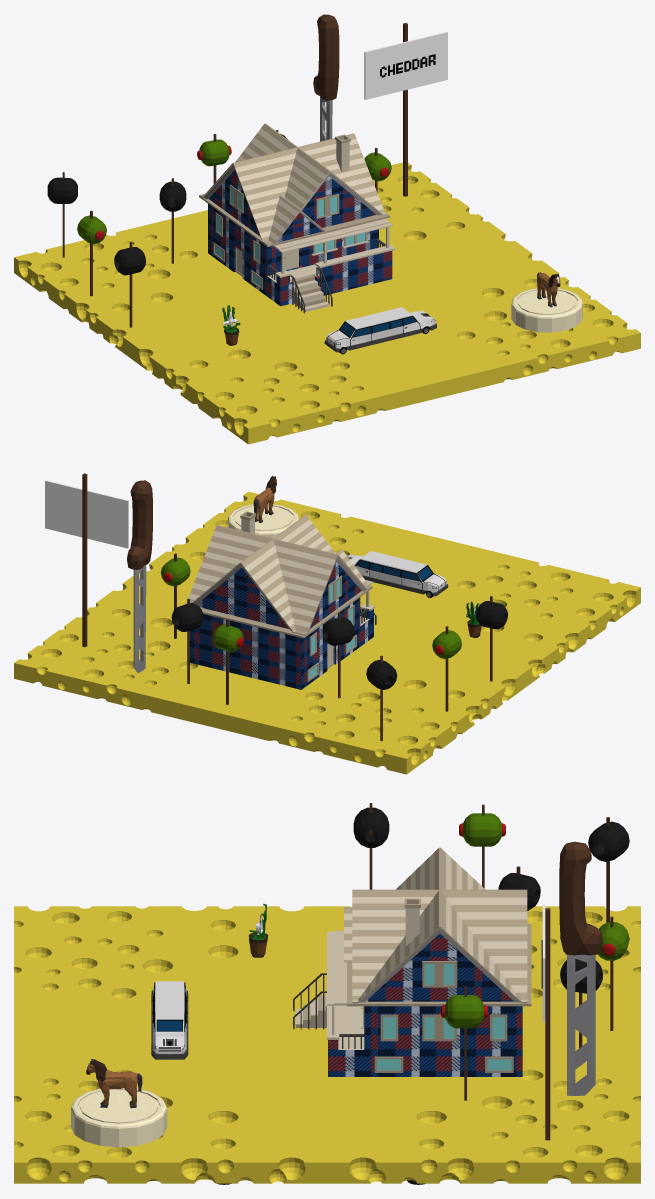
3 views of the same model, one above another, from view 1: azimuth 30°, elevation 25°; view 2: azimuth 150°, elevation 25°; view 3: azimuth 270°, elevation 25° (orthographic). The views are drawn at different scales.
Parts seen in each view (by area): view 1: Cube.022, Cube.171, Cube.023, VEHICLES_LIMOUSINE, Cylinder.016, Cube.024, Sphere.017, Sphere.016, Sphere.020, Sphere.018, Sphere.022, Sphere.019 (+1 smaller); view 2: Cube.022, Cube.171, Cube.023, Cube.024, VEHICLES_LIMOUSINE, Cylinder.016, Sphere.017, Sphere.020, Sphere.021, Sphere.016, Sphere.018, Sphere.022 (+2 smaller); view 3: Cube.022, Cube.171, Cube.024, Cylinder.016, VEHICLES_LIMOUSINE, Cube.023, Sphere.019, Sphere.016, Sphere.018, Sphere.017, ANIMAL_CABALLO, Sphere.022 (+3 smaller).
Boxes of the visible parts, box(x1,y1,x2,y2) form: Cube.022: box(14, 162, 640, 444); Cube.171: box(199, 123, 395, 313); Cube.023: box(364, 23, 447, 196); VEHICLES_LIMOUSINE: box(324, 307, 436, 354); Cylinder.016: box(511, 288, 582, 332); Cube.024: box(313, 14, 339, 141); Sphere.017: box(114, 242, 145, 327); Sphere.016: box(47, 172, 77, 257); Sphere.020: box(159, 178, 186, 263); Sphere.018: box(77, 210, 106, 296); Sphere.022: box(197, 134, 231, 183); Sphere.019: box(364, 148, 391, 192); Cube.022: box(14, 491, 640, 774); Cube.171: box(184, 511, 376, 689); Cube.023: box(45, 473, 128, 647); Cube.024: box(127, 480, 152, 672); VEHICLES_LIMOUSINE: box(347, 551, 448, 597); Cylinder.016: box(228, 503, 298, 538); Sphere.017: box(476, 596, 507, 681); Sphere.020: box(322, 612, 354, 698); Sphere.021: box(171, 598, 203, 683); Sphere.016: box(366, 655, 397, 741); Sphere.018: box(432, 626, 461, 711); Sphere.022: box(212, 619, 244, 704); Cube.022: box(14, 906, 640, 1183); Cube.171: box(293, 847, 531, 1076); Cube.024: box(559, 841, 602, 1095); Cylinder.016: box(71, 1088, 167, 1147); VEHICLES_LIMOUSINE: box(151, 981, 188, 1059); Cube.023: box(541, 904, 550, 1140); Sphere.019: box(441, 986, 487, 1100); Sphere.016: box(588, 817, 629, 922); Sphere.018: box(459, 804, 505, 887); Sphere.017: box(353, 803, 389, 889); ANIMAL_CABALLO: box(86, 1059, 142, 1108); Sphere.022: box(598, 916, 629, 1030).
Bounding box in the file's own units: 3917 × 1985 × 4000.
Materials: 40 (4 with a texture image).
